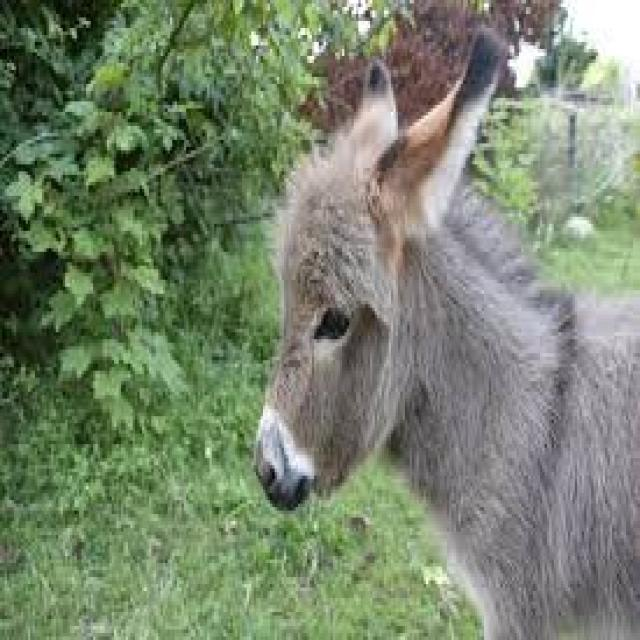Donkey: (246, 21, 640, 640)
